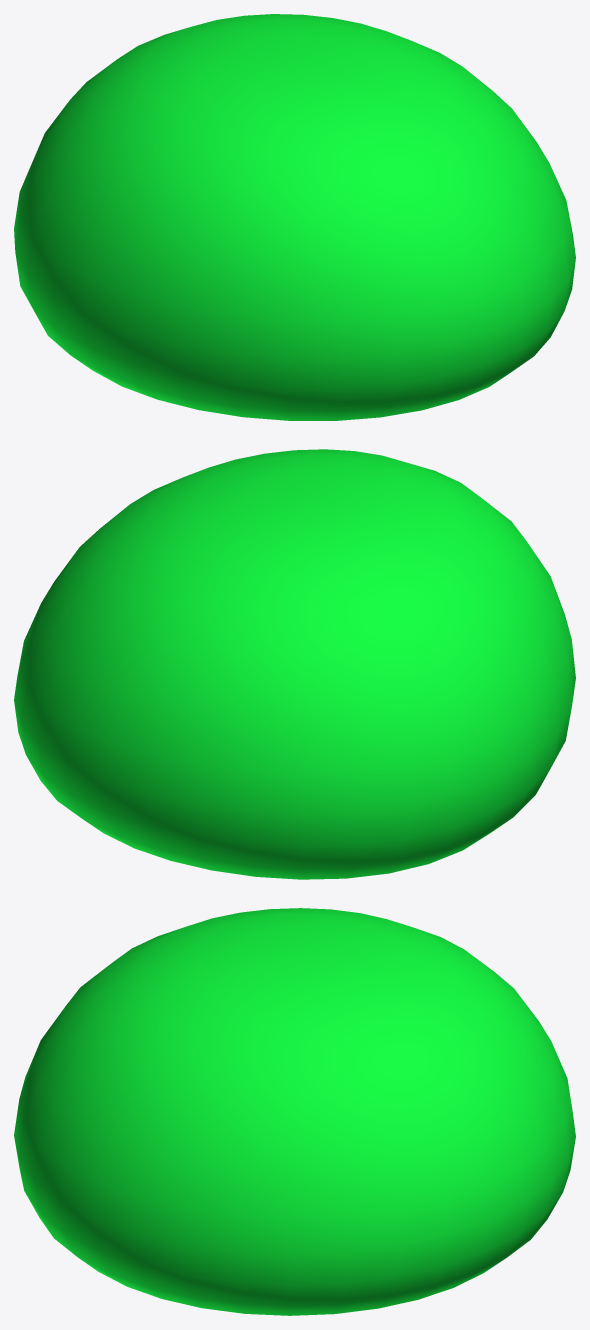
The model's file is newSlime3.fbx.
3 views of the same model, one above another, from view 1: azimuth 30°, elevation 25°; view 2: azimuth 150°, elevation 25°; view 3: azimuth 270°, elevation 25° (orthographic). The views are drawn at different scales.
Parts seen in each view (by area): view 1: Slime; view 2: Slime; view 3: Slime.
Boxes of the visible parts, x1,y1,x2,y2 form: Slime: (14, 14, 575, 420); Slime: (14, 449, 575, 879); Slime: (14, 908, 575, 1315).
Bounding box in the file's own units: 241 × 142 × 253.
